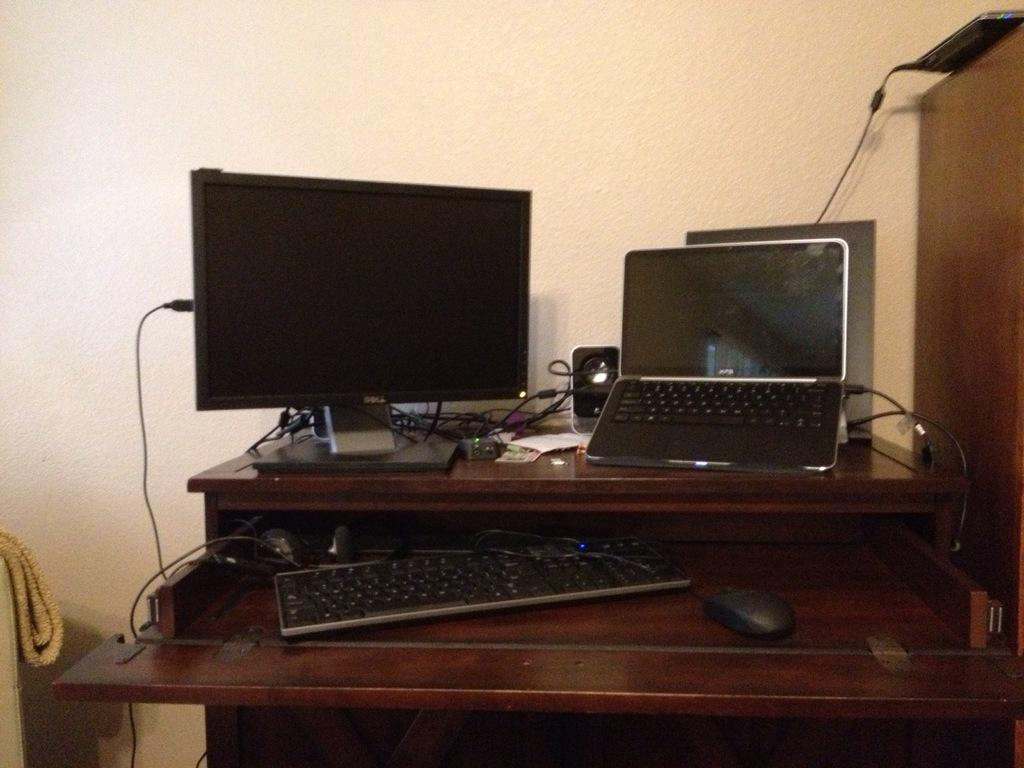Computer-keyboard: (275, 532, 691, 641), (612, 380, 829, 428)
Computer-monitor: (153, 186, 532, 460)
